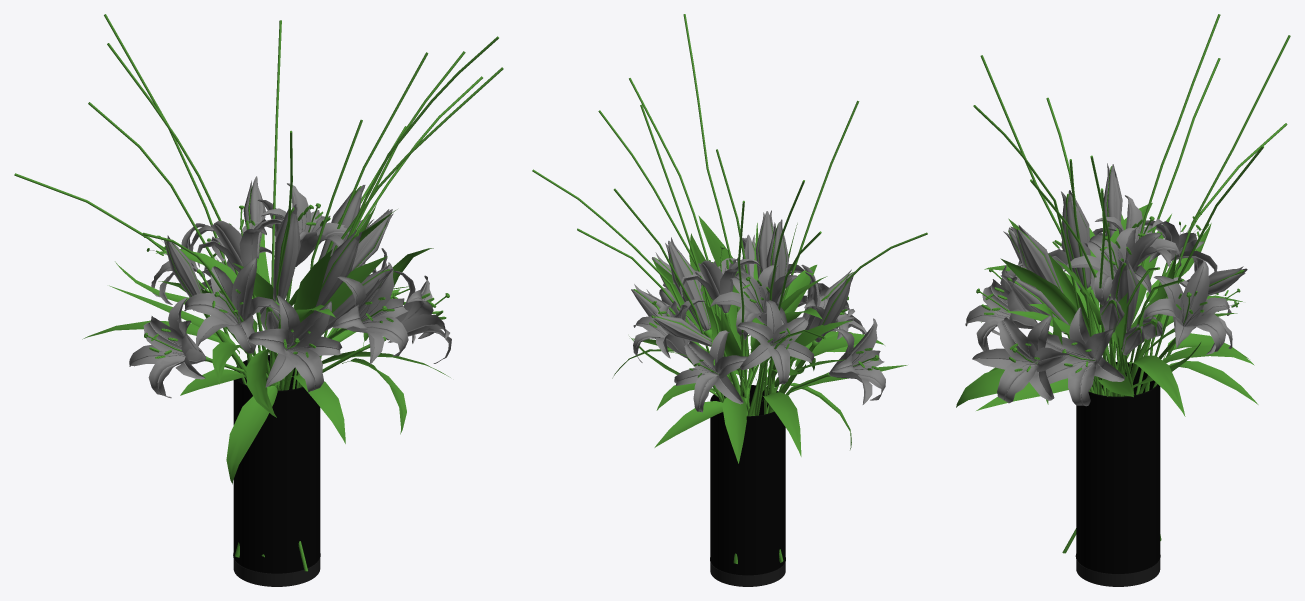
Rendered from hua1.FBX.
3 renders of one model, left to right at view 1: azimuth 30°, elevation 25°; view 2: azimuth 150°, elevation 25°; view 3: azimuth 270°, elevation 25°, orthographic. The views are drawn at different scales.
Parts seen in each view (by area): view 1: 玻璃花瓶04, 草枝15, 百合45, 百合43, 百合44, 百合49, 百合46, 百合53, 百合47, 叶122, 花蕾46, 花蕾39 (+12 smaller); view 2: 玻璃花瓶04, 草枝15, 百合52, 百合48, 百合46, 百合44, 百合47, 百合51, 花蕾43, 花蕾40, 叶133, 百合43 (+14 smaller); view 3: 玻璃花瓶04, 草枝15, 百合53, 百合50, 百合51, 百合47, 百合49, 花蕾46, 百合52, 百合46, 花蕾39, 叶115 (+18 smaller).
Boxes of the visible parts, <box> form: 玻璃花瓶04: <box>233,355,320,573</box>; 草枝15: <box>14,14,503,389</box>; 百合45: <box>248,295,342,392</box>; 百合43: <box>184,258,280,363</box>; 百合44: <box>129,297,246,398</box>; 百合49: <box>301,262,408,387</box>; 百合46: <box>197,205,282,375</box>; 百合53: <box>322,271,451,372</box>; 百合47: <box>260,183,349,387</box>; 叶122: <box>226,384,277,484</box>; 花蕾46: <box>269,204,300,386</box>; 花蕾39: <box>283,230,362,390</box>; 玻璃花瓶04: <box>710,385,785,575</box>; 草枝15: <box>532,14,927,415</box>; 百合52: <box>737,300,813,415</box>; 百合48: <box>674,330,747,412</box>; 百合46: <box>710,265,797,416</box>; 百合44: <box>774,318,885,411</box>; 百合47: <box>679,246,762,415</box>; 百合51: <box>633,299,723,402</box>; 花蕾43: <box>665,237,732,383</box>; 花蕾40: <box>768,276,853,413</box>; 叶133: <box>722,395,746,463</box>; 百合43: <box>780,272,866,390</box>; 玻璃花瓶04: <box>1076,362,1160,573</box>; 草枝15: <box>973,14,1290,396</box>; 百合53: <box>972,315,1090,403</box>; 百合50: <box>1045,307,1124,406</box>; 百合51: <box>1138,261,1231,394</box>; 百合47: <box>1064,227,1161,370</box>; 百合49: <box>965,263,1094,393</box>; 花蕾46: <box>1061,190,1096,393</box>; 百合52: <box>1062,212,1217,553</box>; 百合46: <box>1095,195,1181,369</box>; 花蕾39: <box>1010,225,1104,395</box>; 叶115: <box>1000,258,1090,336</box>.
Bounding box in the file's own units: 1372 × 1789 × 1017.
